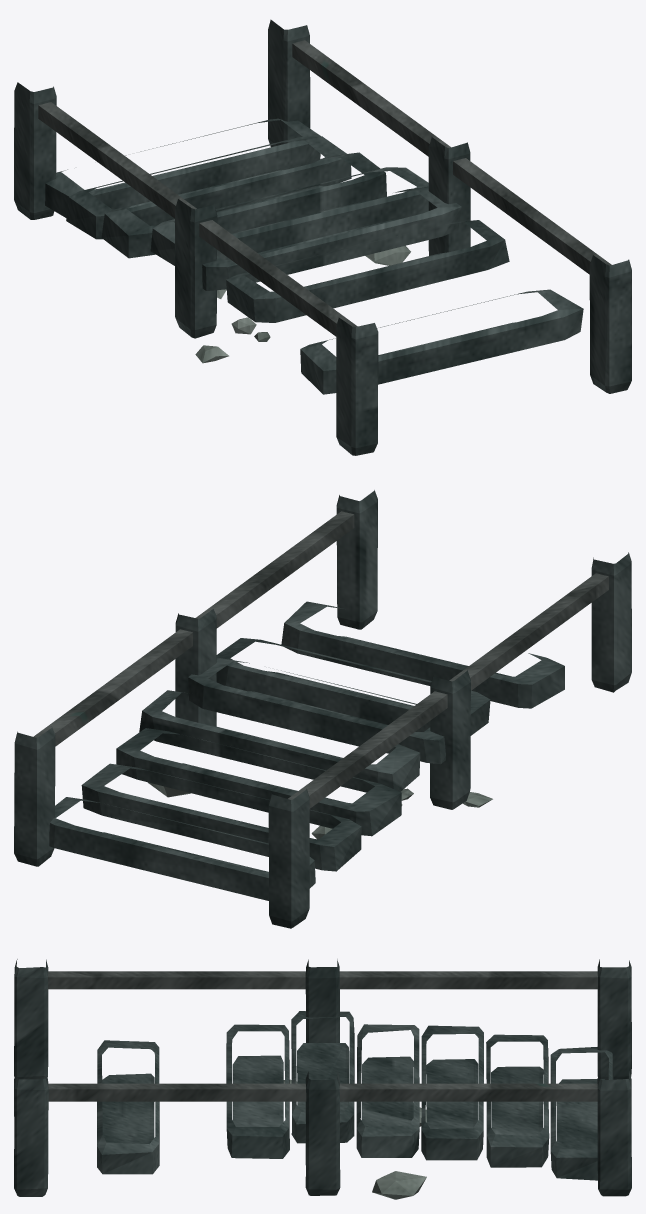
File: 0377_ruined_bridge_02.glb
The picture shows the model from 3 angles, top to bottom: view 1: azimuth 30°, elevation 25°; view 2: azimuth 150°, elevation 25°; view 3: azimuth 270°, elevation 25°; orthographic projection. The views are drawn at different scales.
Parts seen in each view (by area): view 1: stone_dark, iron, stone; view 2: stone_dark, iron, stone; view 3: stone_dark, iron, stone.
Part boxes in pixels (x1,y1,x2,y2): stone_dark: [14, 19, 631, 455]; iron: [38, 40, 611, 336]; stone: [195, 245, 410, 363]; stone_dark: [14, 490, 631, 928]; iron: [33, 511, 608, 808]; stone: [148, 782, 492, 839]; stone_dark: [14, 959, 631, 1196]; iron: [48, 971, 597, 1101]; stone: [283, 1079, 426, 1199].
Bounding box in the file's own units: 2.2 × 1.09 × 4.56.
3 materials, 3 textured.
